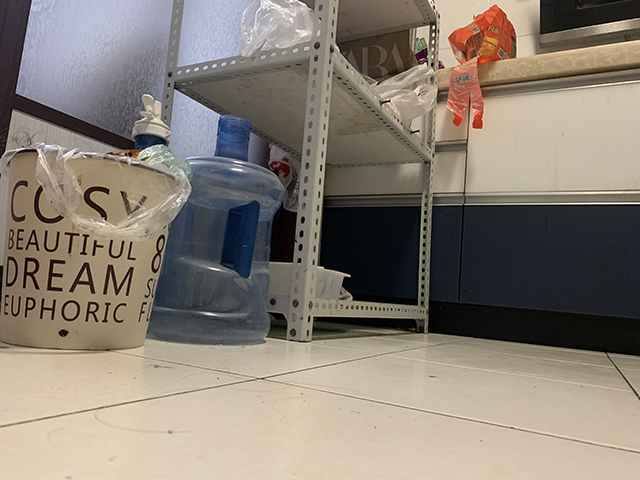cabinet: (426, 42, 640, 347)
trashcan: (1, 141, 186, 351)
